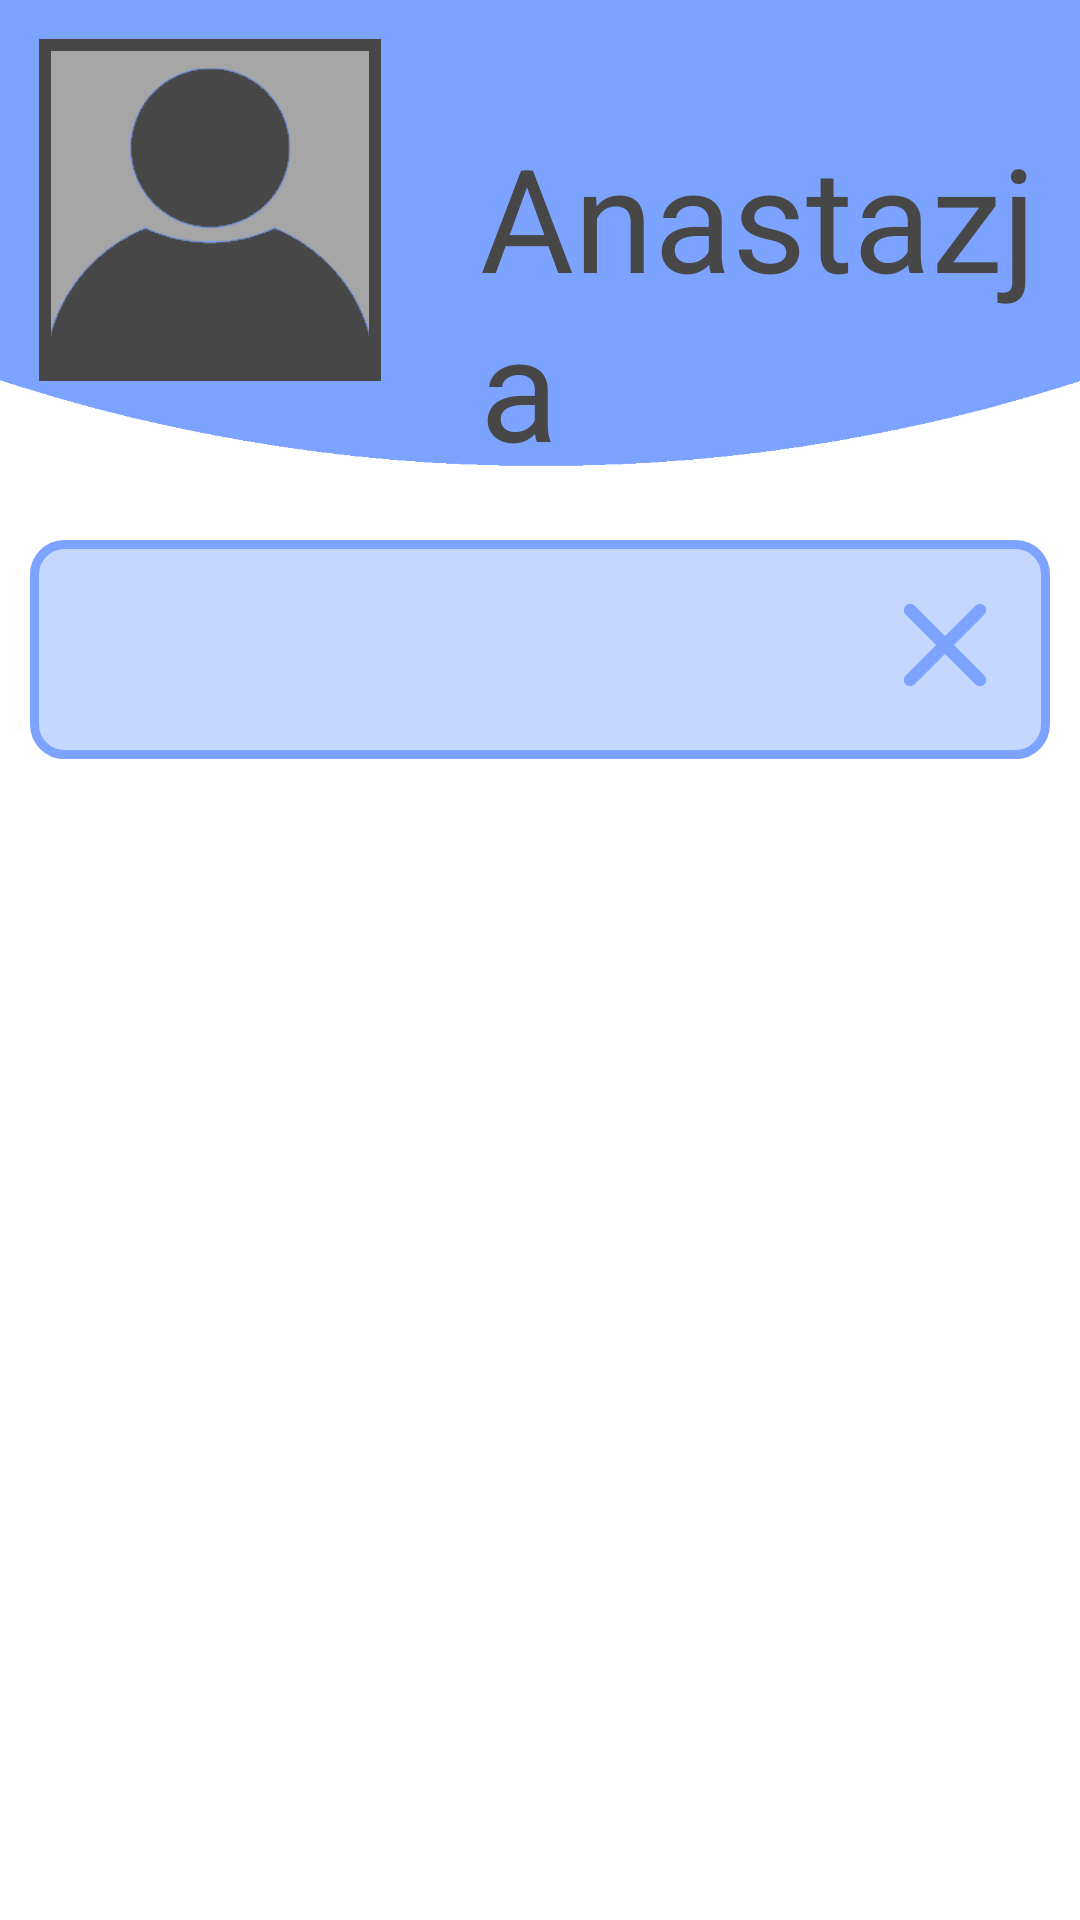

Locate icon controls on the screen. Image size 1080*1920, boxes as bbox(x1, y1, x2, y2).
clear: bbox(904, 604, 986, 686)
no photo user: bbox(39, 39, 381, 381)
